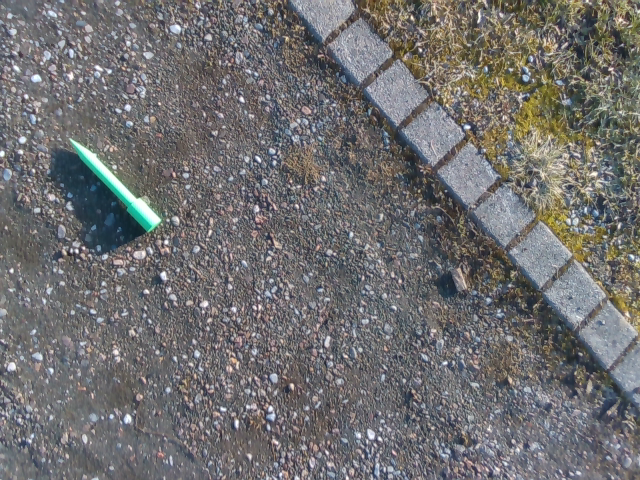Probe: (62, 133, 166, 235)
